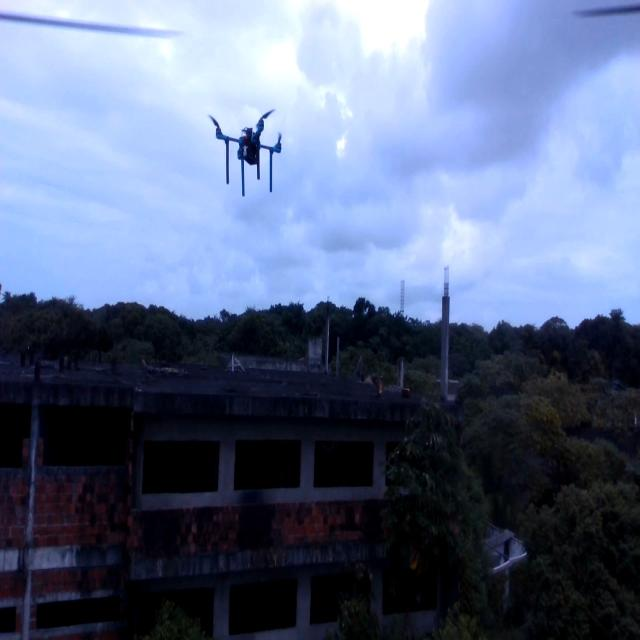-uav-: (197, 82, 295, 220)
